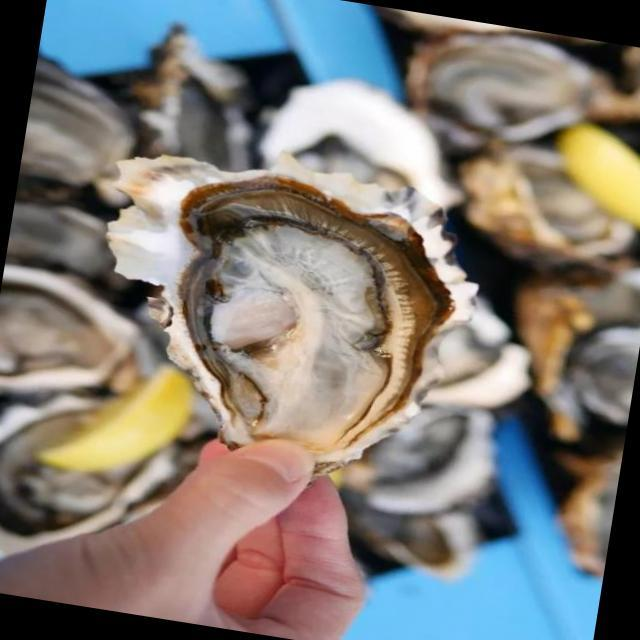Oyster- Indeterminate: (405, 30, 631, 163), (462, 146, 640, 291), (278, 83, 437, 192), (2, 54, 125, 188), (0, 200, 122, 275)
Oyster-Open: (97, 156, 489, 470), (0, 378, 180, 549), (129, 20, 284, 184), (0, 259, 129, 392)
